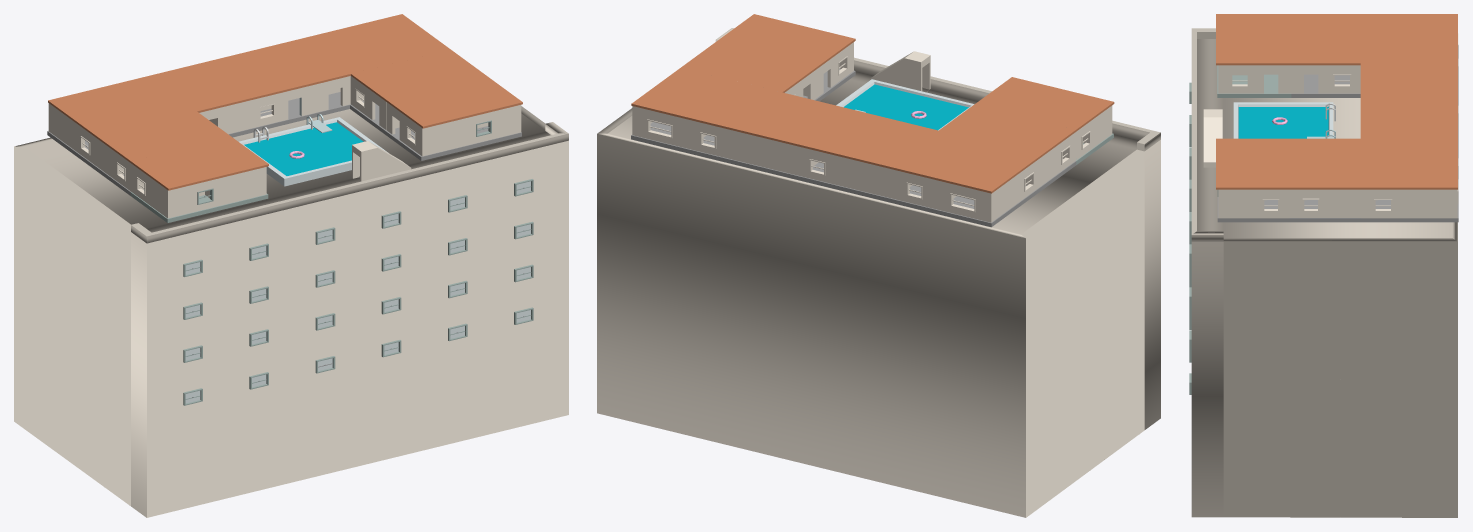
File: Buildingv8.fbx
The picture shows the model from 3 angles, left to right: view 1: azimuth 30°, elevation 25°; view 2: azimuth 150°, elevation 25°; view 3: azimuth 270°, elevation 25°; orthographic projection.
Parts seen in each view (by area): view 1: Building1, Roof3, Roof5, Pool, Roof4, Roof1, Roof7, Unit1, Unit7, Roof2, Roof6, Unit4 (+8 smaller); view 2: Building1, Roof3, Roof5, Unit3, Roof4, Roof1, Roof7, Unit5, Roof2, Roof6, Pool, Unit4 (+6 smaller); view 3: Building1, Roof5, Roof3, Roof4, Roof7, Roof1, Roof2, Roof6, Pool, Unit5, Unit7, Unit6 (+8 smaller).
Part boxes in pixels (x1=…): Building1: x1=14, y1=106, x2=568, y2=517; Roof3: x1=48, y1=69, x2=224, y2=137; Roof5: x1=275, y1=14, x2=450, y2=82; Pool: x1=239, y1=117, x2=387, y2=186; Roof4: x1=176, y1=45, x2=323, y2=106; Roof1: x1=131, y1=137, x2=268, y2=190; Roof7: x1=385, y1=75, x2=522, y2=128; Unit1: x1=132, y1=164, x2=266, y2=218; Unit7: x1=387, y1=102, x2=521, y2=156; Roof2: x1=96, y1=111, x2=231, y2=162; Roof6: x1=351, y1=49, x2=484, y2=100; Unit4: x1=225, y1=83, x2=320, y2=134; Building1: x1=597, y1=28, x2=1160, y2=517; Roof3: x1=862, y1=123, x2=1040, y2=193; Roof5: x1=631, y1=68, x2=809, y2=137; Unit3: x1=860, y1=158, x2=1039, y2=222; Roof4: x1=761, y1=99, x2=909, y2=161; Roof1: x1=974, y1=77, x2=1114, y2=131; Roof7: x1=716, y1=14, x2=855, y2=68; Unit5: x1=632, y1=106, x2=763, y2=166; Roof2: x1=939, y1=105, x2=1075, y2=157; Roof6: x1=681, y1=42, x2=817, y2=92; Pool: x1=836, y1=79, x2=974, y2=130; Unit4: x1=763, y1=138, x2=860, y2=190; Building1: x1=1191, y1=28, x2=1457, y2=517; Roof5: x1=1360, y1=125, x2=1457, y2=189; Roof3: x1=1360, y1=14, x2=1457, y2=76; Roof4: x1=1360, y1=76, x2=1457, y2=125; Roof7: x1=1216, y1=138, x2=1291, y2=189; Roof1: x1=1216, y1=14, x2=1291, y2=65; Roof2: x1=1291, y1=14, x2=1360, y2=65; Roof6: x1=1291, y1=138, x2=1360, y2=189; Pool: x1=1233, y1=102, x2=1333, y2=138; Unit5: x1=1361, y1=158, x2=1458, y2=218; Unit7: x1=1218, y1=189, x2=1289, y2=218; Unit6: x1=1289, y1=189, x2=1361, y2=217.
Size of the model in its own units: 60.16 by 42.63 by 33.18.
